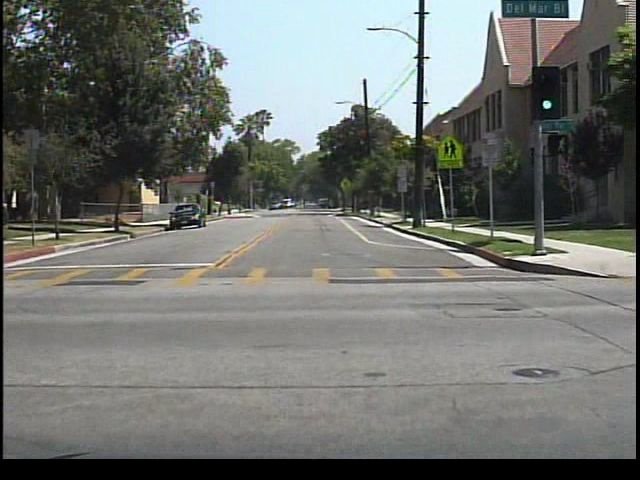person: (298, 195, 312, 212)
